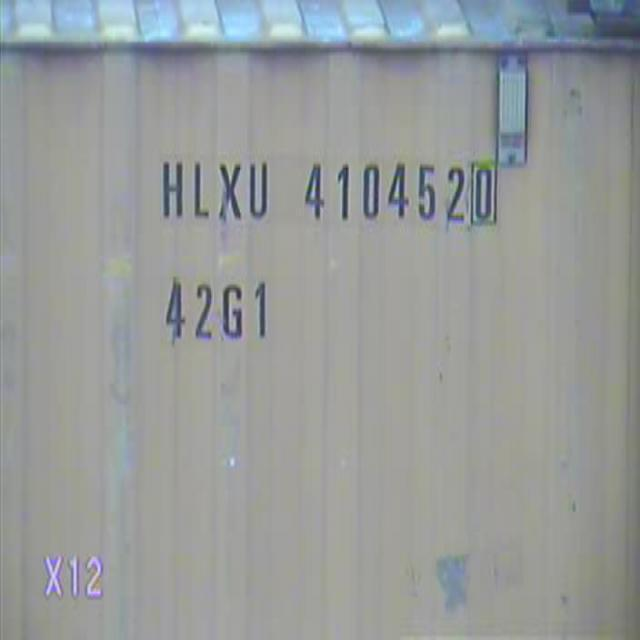ISO: (154, 273, 284, 350)
container_number: (152, 154, 502, 228)
